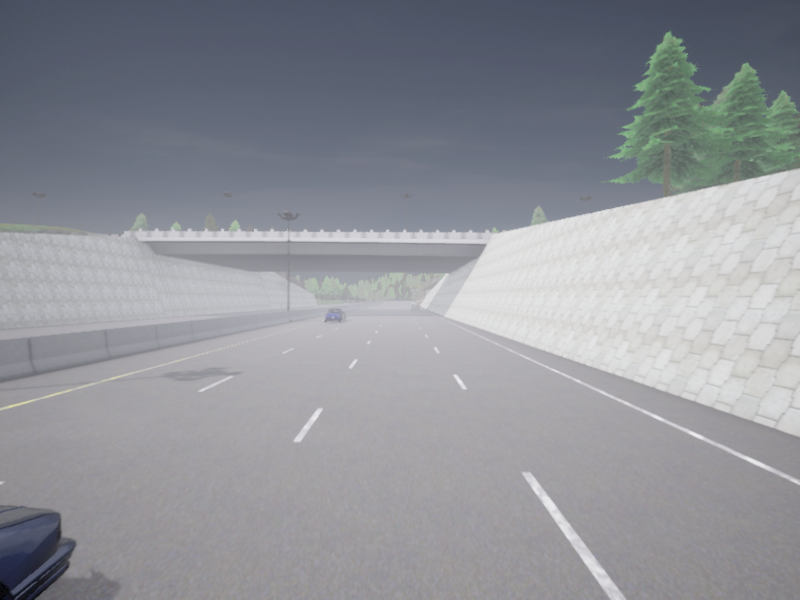vehicle: (0, 506, 75, 599), (325, 308, 345, 321), (411, 304, 419, 309)
